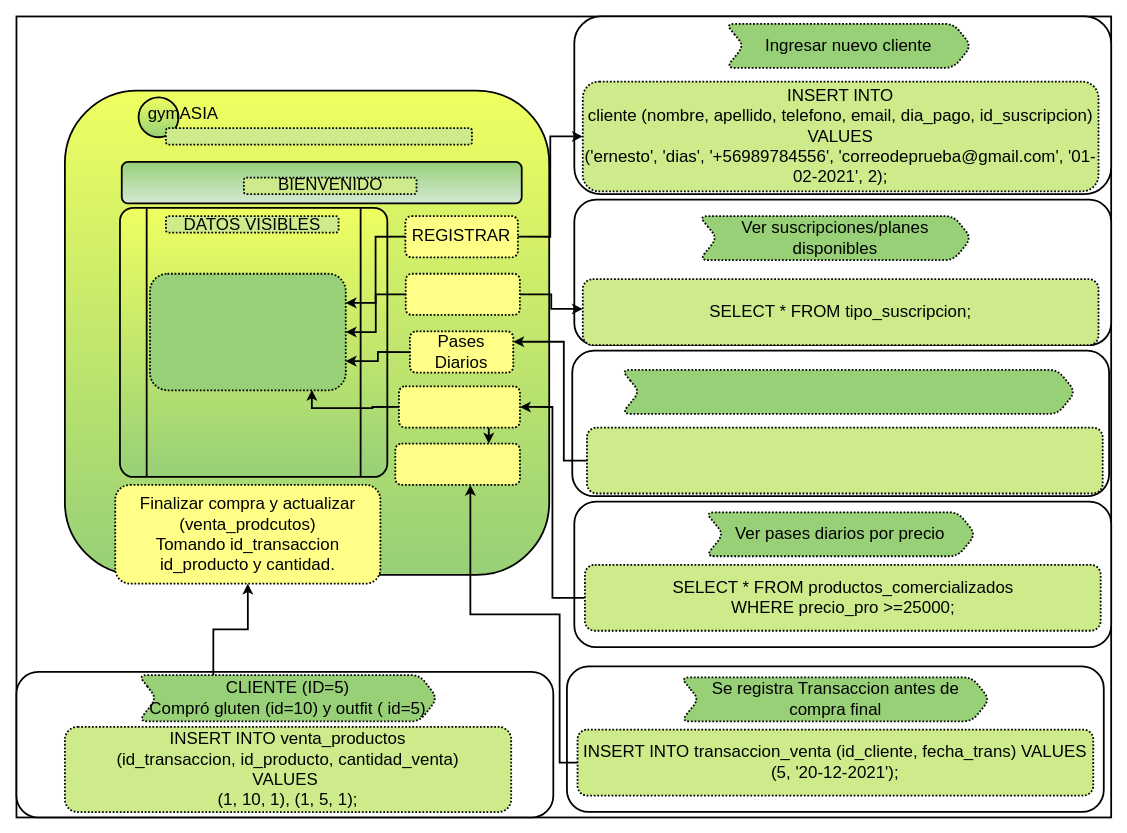
This 1127x833 diagram has some shape labels left out. Each missing label, with the centre of its shape:
FORMULARIO o INFORMACION: the point at 247,331
Planes disponibles: the point at 462,293
Registrar comprador: the point at 457,463
SELECT * FROM pase_diario;: the point at 844,460
SOLUCIONES DEPORTIVAS: the point at 318,136
Ver pases diarios por precio involucrando id de cliente y id de categoria: the point at 848,391
Ver productos con filtro: the point at 459,406
